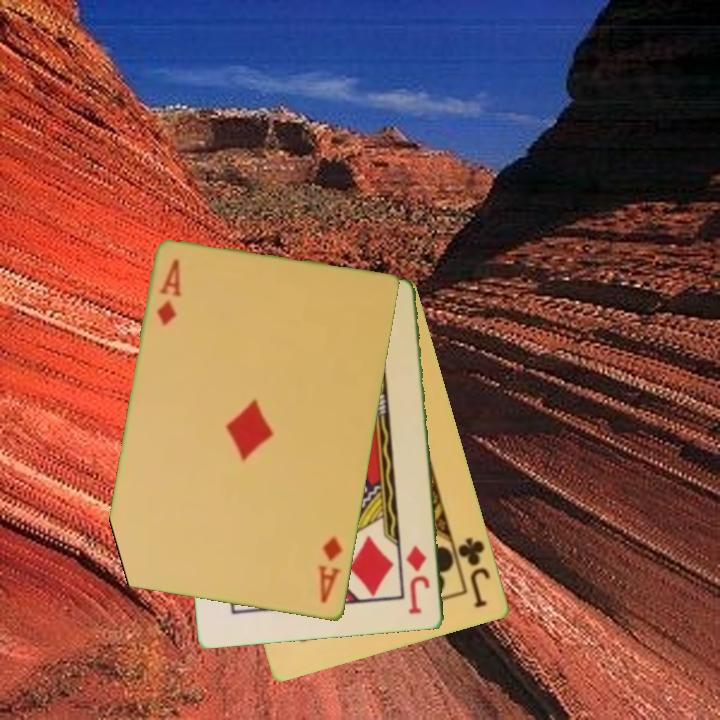Ad: (315, 533, 346, 607), (154, 255, 185, 329)
Jc: (454, 534, 494, 611)
Jd: (403, 542, 433, 618)
